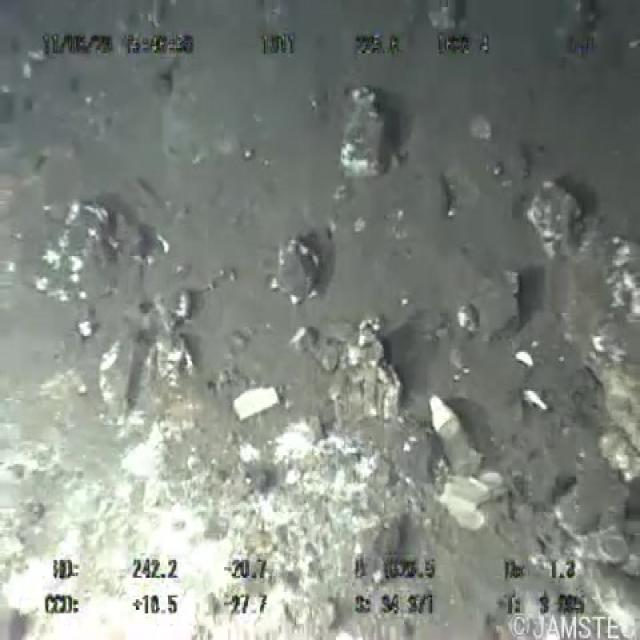plastic: (424, 388, 483, 478)
